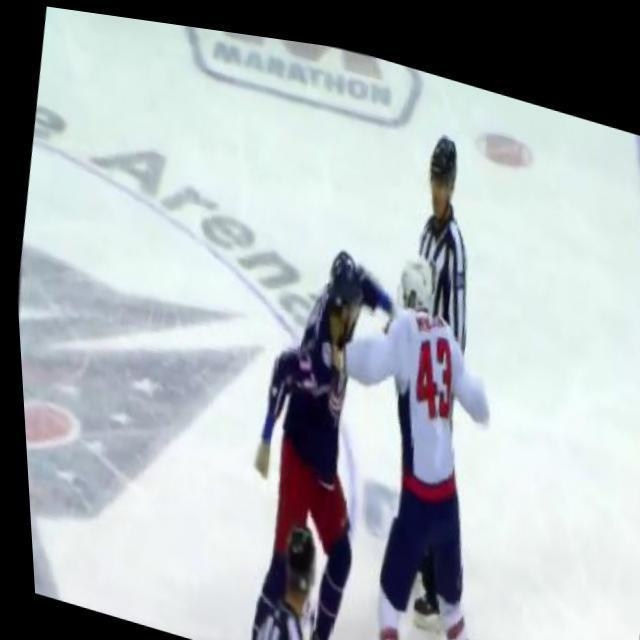fight: (191, 195, 539, 640)
